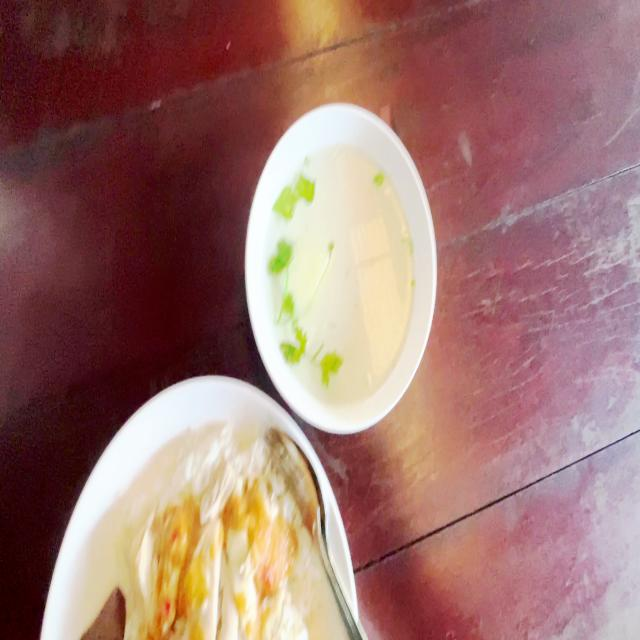boiled_chicken: (134, 484, 290, 640)
boiled_chicken_blood_jelly: (78, 578, 128, 639)
chicken_rice: (75, 424, 325, 640)
